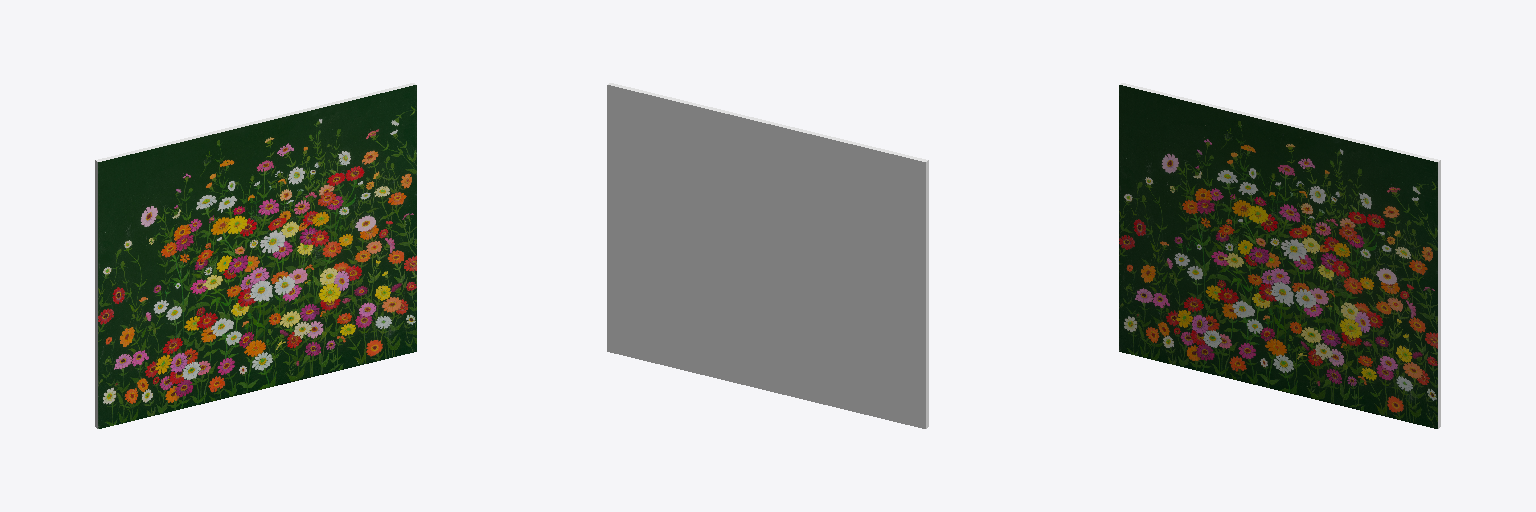
The picture shows the model from 3 angles: view 1: azimuth 30°, elevation 25°; view 2: azimuth 150°, elevation 25°; view 3: azimuth 330°, elevation 25°; orthographic projection.
Parts seen in each view (by area): view 1: Mesh1 Model; view 2: Mesh1 Model; view 3: Mesh1 Model.
Part boxes in pixels (x1,y1,x2,y2): Mesh1 Model: (95,83,416,428); Mesh1 Model: (607,83,928,428); Mesh1 Model: (1119,83,1440,428).
Size of the model in its own units: 1.89 by 1.52 by 0.03.
Materials: 2 (1 with a texture image).